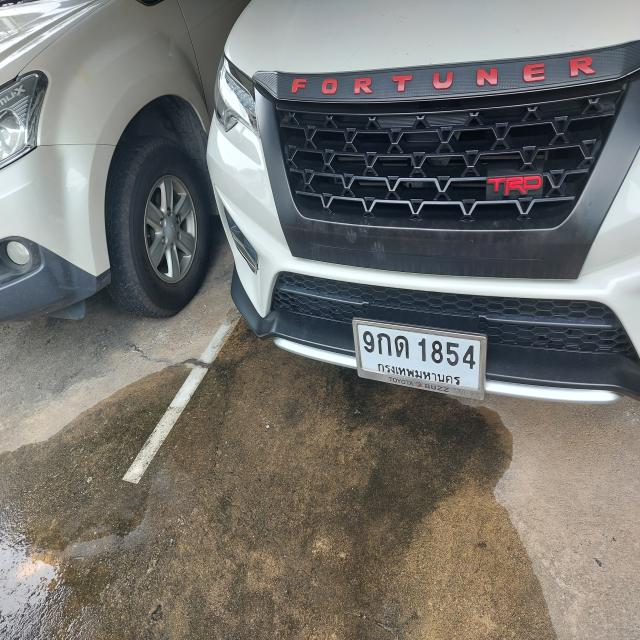license_plate: (352, 316, 487, 403)
